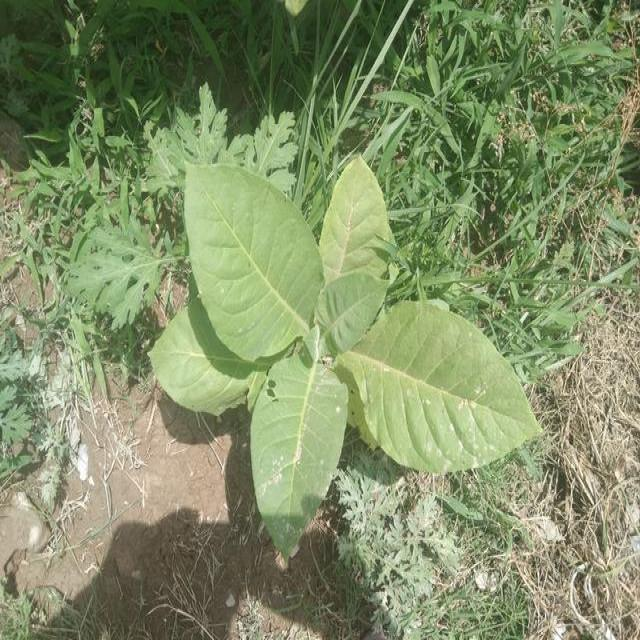crop: (156, 151, 531, 538)
